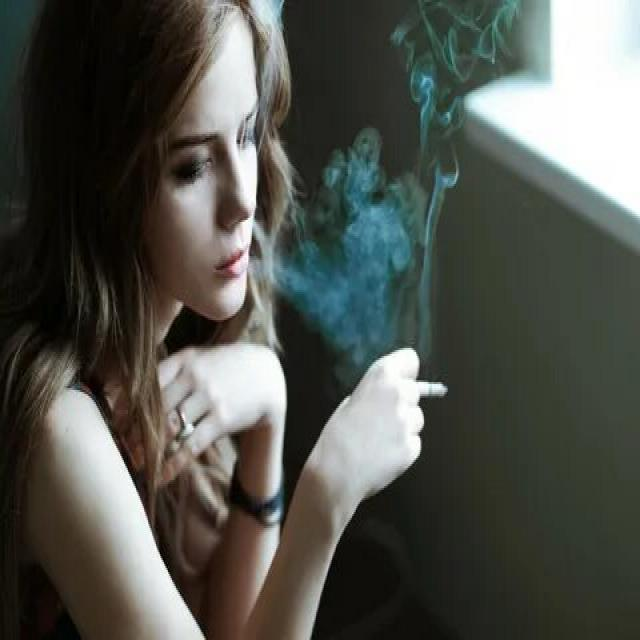cigarette: (408, 380, 455, 398)
